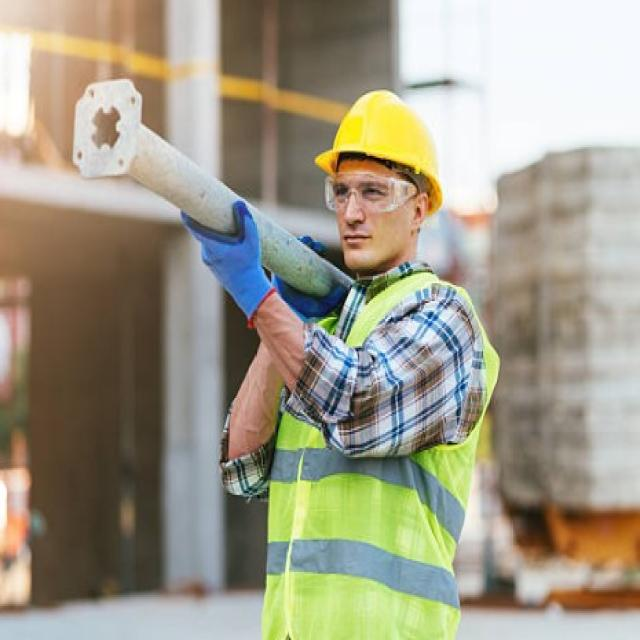gloved: (179, 199, 274, 324), (271, 235, 348, 323)
